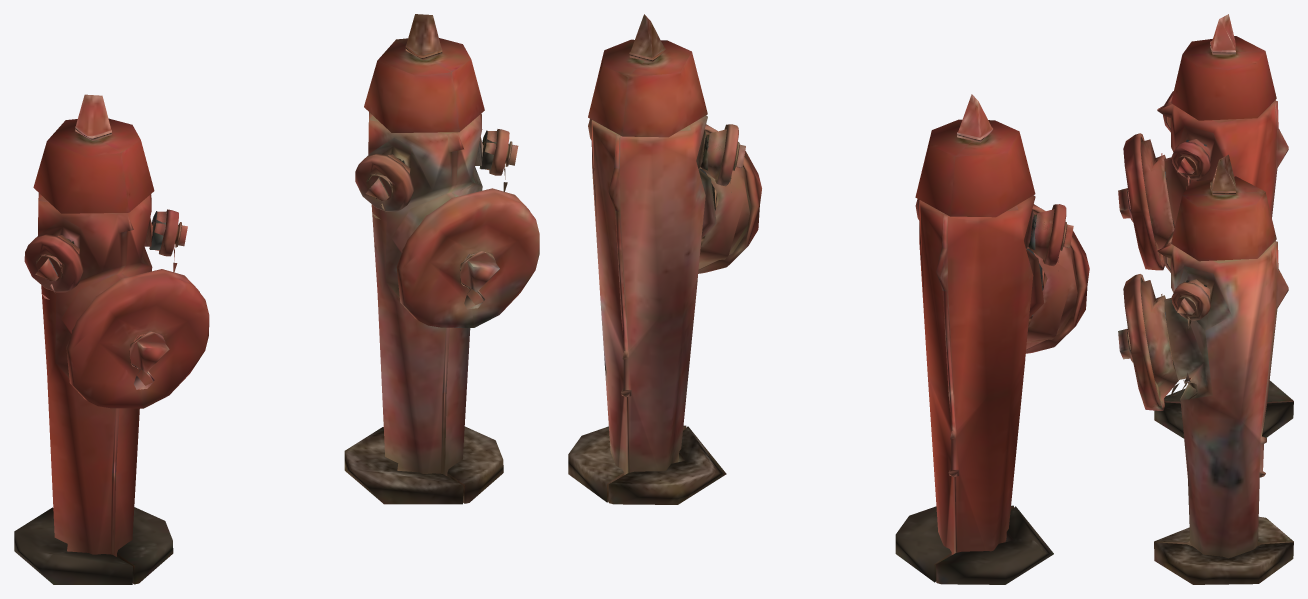
The model's file is fire_hydrant.glb.
3 renders of one model, left to right at view 1: azimuth 30°, elevation 25°; view 2: azimuth 150°, elevation 25°; view 3: azimuth 270°, elevation 25°, orthographic. The views are drawn at different scales.
Visible parts, largest first — view 1: fire_hydrant_aged, fire_hydrant, fire_hydrant_cap_01, fire_hydrant_cap_01_aged, fire_hydrant_cap_03, fire_hydrant_cap_03_aged, fire_hydrant_cap_02_aged, fire_hydrant_cap_02; view 2: fire_hydrant, fire_hydrant_aged, fire_hydrant_cap_01, fire_hydrant_cap_01_aged, fire_hydrant_cap_03, fire_hydrant_cap_03_aged; view 3: fire_hydrant_aged, fire_hydrant, fire_hydrant_cap_01, fire_hydrant_cap_01_aged, fire_hydrant_cap_02, fire_hydrant_cap_02_aged, fire_hydrant_chain_aged.
Part boxes in pixels (x1,y1,x2,y2): fire_hydrant_aged: (344, 14, 503, 504); fire_hydrant: (14, 94, 173, 584); fire_hydrant_cap_01: (66, 269, 209, 408); fire_hydrant_cap_01_aged: (396, 188, 539, 327); fire_hydrant_cap_03: (24, 234, 83, 292); fire_hydrant_cap_03_aged: (355, 153, 414, 211); fire_hydrant_cap_02_aged: (489, 129, 518, 175); fire_hydrant_cap_02: (159, 209, 187, 256); fire_hydrant: (895, 94, 1077, 584); fire_hydrant_aged: (568, 14, 749, 504); fire_hydrant_cap_01: (1025, 204, 1089, 353); fire_hydrant_cap_01_aged: (698, 124, 761, 273); fire_hydrant_cap_03: (1043, 204, 1073, 266); fire_hydrant_cap_03_aged: (715, 124, 745, 186); fire_hydrant_aged: (1141, 154, 1293, 584); fire_hydrant: (1141, 14, 1293, 438); fire_hydrant_cap_01: (1118, 133, 1164, 270); fire_hydrant_cap_01_aged: (1118, 274, 1164, 410); fire_hydrant_cap_02: (1171, 141, 1210, 180); fire_hydrant_cap_02_aged: (1171, 282, 1210, 320); fire_hydrant_chain_aged: (1161, 294, 1198, 399).
Bounding box in the file's own units: 0.8745 × 0.7992 × 0.3173.
Materials: 2 (2 with a texture image).
